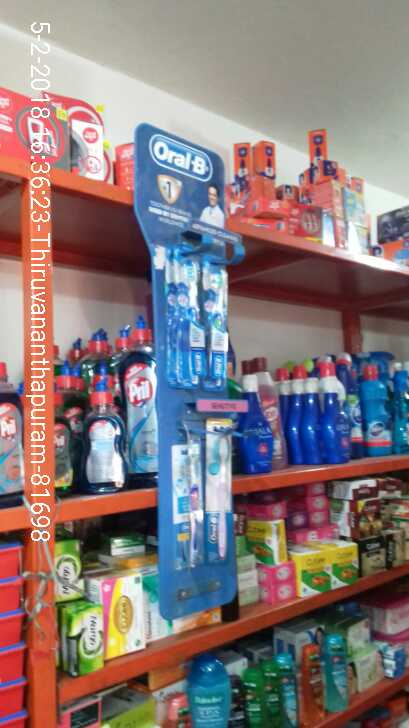oralb: (169, 443, 204, 565), (205, 417, 233, 559), (175, 249, 205, 375), (204, 259, 228, 386)
